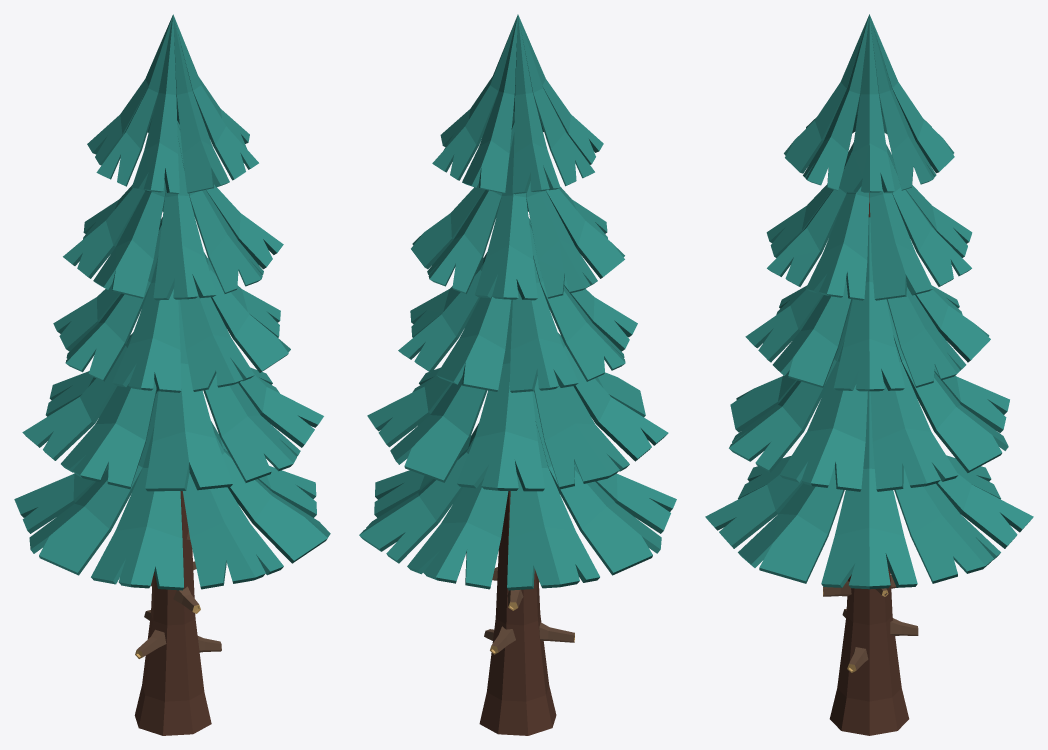
Rendered from Tree_Type7_8.fbx.
3 views of the same model, side by side, from view 1: azimuth 30°, elevation 25°; view 2: azimuth 150°, elevation 25°; view 3: azimuth 270°, elevation 25° (orthographic).
Parts seen in each view (by area): view 1: Tree_Type7_8; view 2: Tree_Type7_8; view 3: Tree_Type7_8.
Part boxes in pixels (x1,y1,x2,y2): Tree_Type7_8: (14,14,330,735); Tree_Type7_8: (359,14,676,735); Tree_Type7_8: (705,14,1033,735).
Size of the model in its own units: 314 by 752 by 318.
